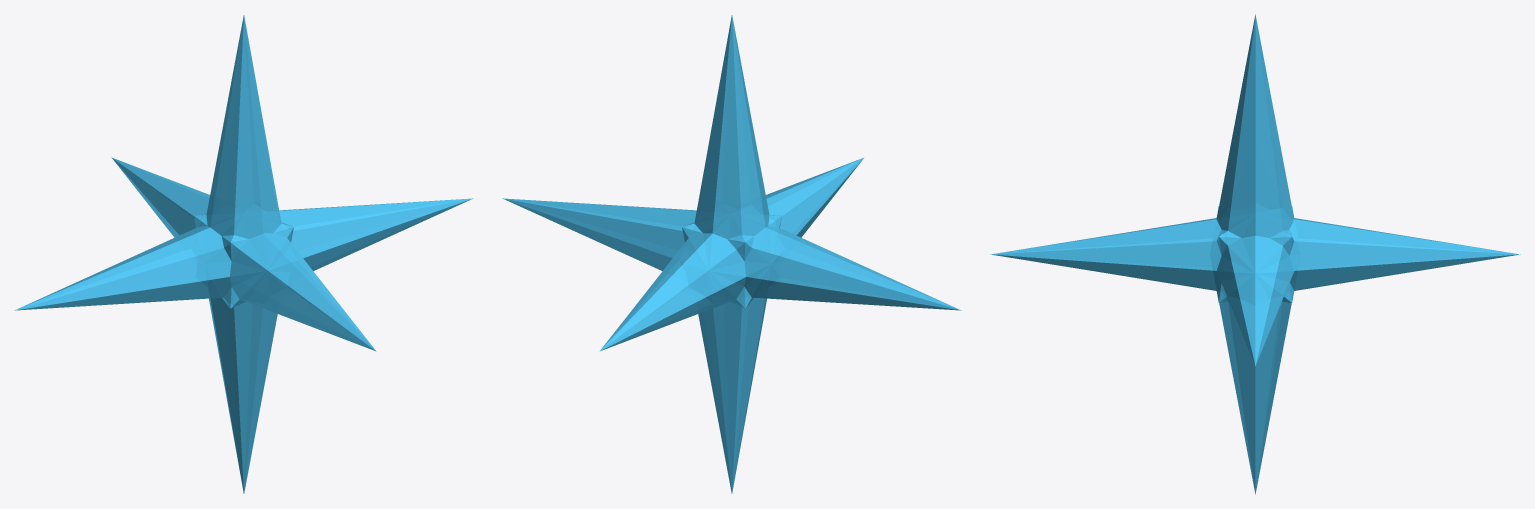
File: TetradyakisHexahedron.obj
3 views of the same model, side by side, from view 1: azimuth 30°, elevation 25°; view 2: azimuth 150°, elevation 25°; view 3: azimuth 270°, elevation 25° (orthographic).
Size of the model in its own units: 14.49 by 14.49 by 14.49.
